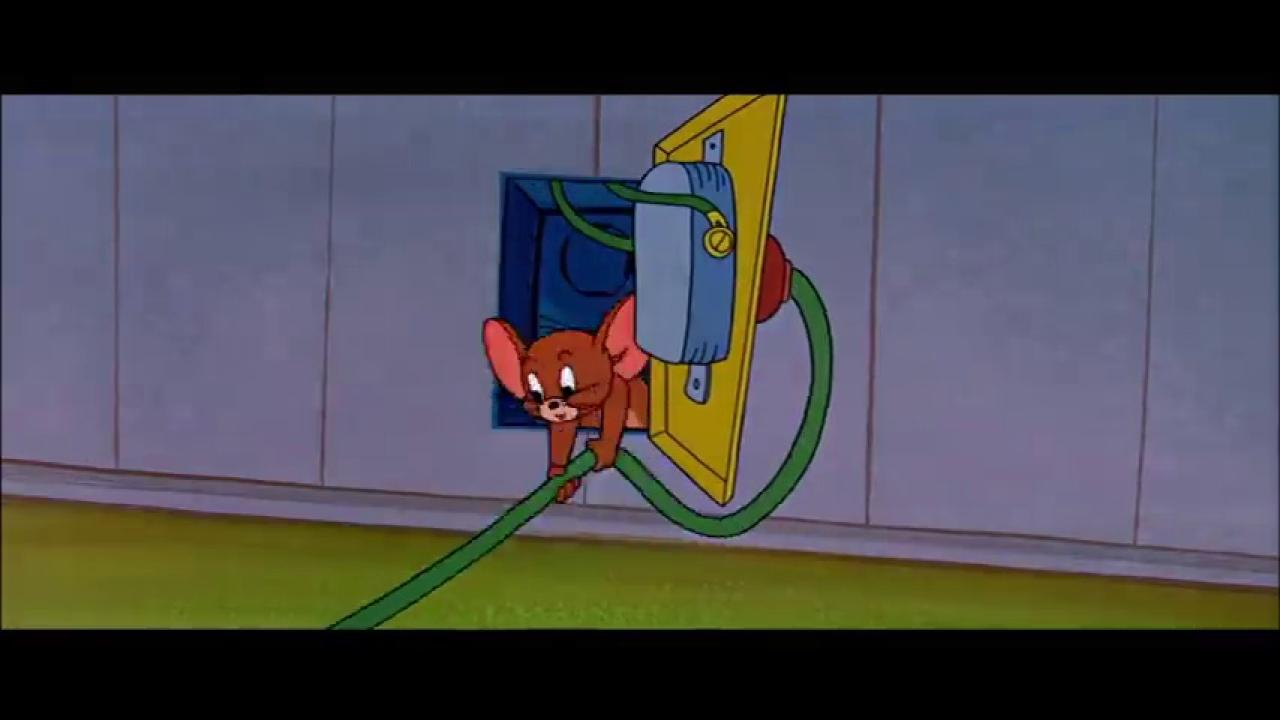Jerry: (480, 292, 650, 505)
